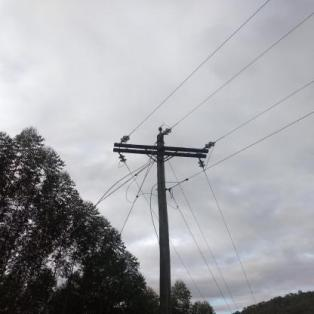Poste: (150, 127, 175, 314)
